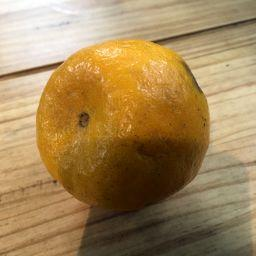Ripe: (36, 38, 207, 211)
